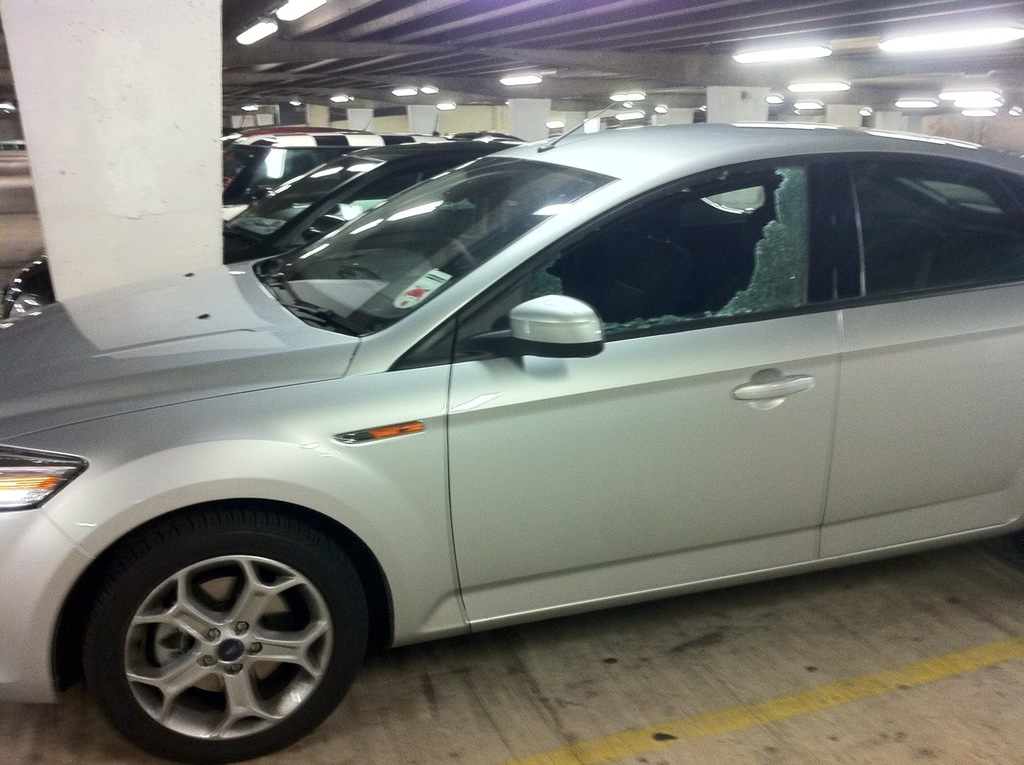Car: (0, 91, 1024, 765), (0, 138, 526, 323), (220, 115, 453, 221)
